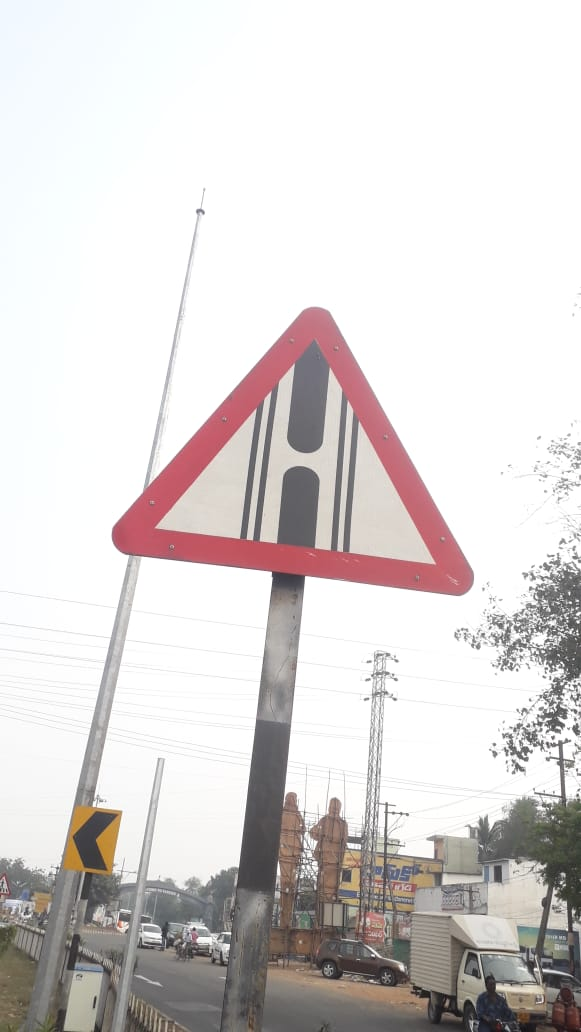highway go straight: (109, 260, 481, 625)
